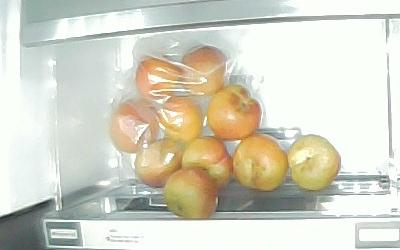prune: (287, 135, 342, 192), (233, 134, 288, 191), (207, 85, 262, 141), (182, 136, 234, 190), (165, 167, 217, 219)
prune_vinyl: (110, 99, 162, 153), (134, 139, 183, 189), (182, 44, 228, 95), (134, 57, 182, 101), (160, 95, 203, 142)
